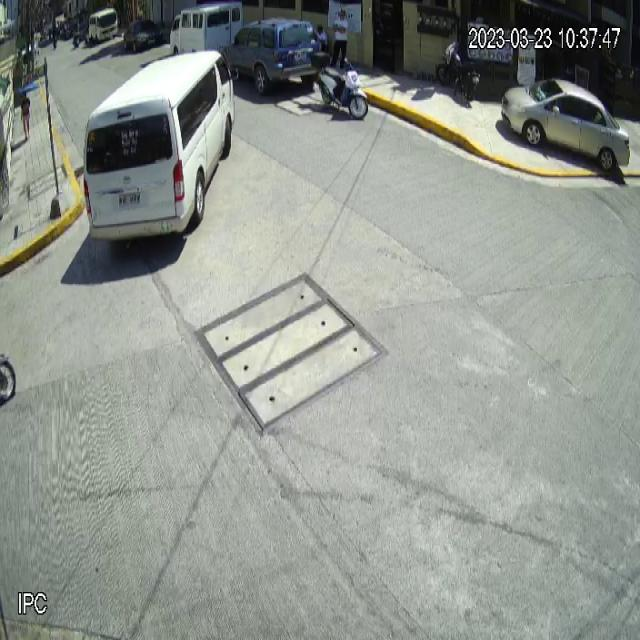Car: (500, 76, 632, 175), (216, 17, 322, 98)
Motorcycle: (311, 49, 371, 125)
Van: (80, 46, 238, 244), (169, 2, 244, 52)
